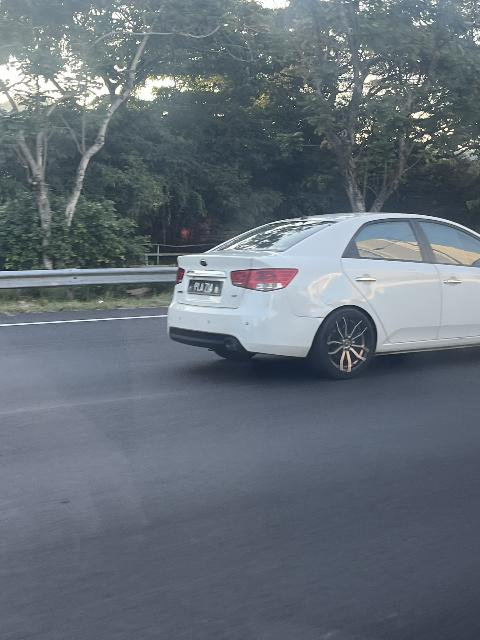License_Plate: (170, 268, 234, 309)
car: (155, 206, 480, 374)
